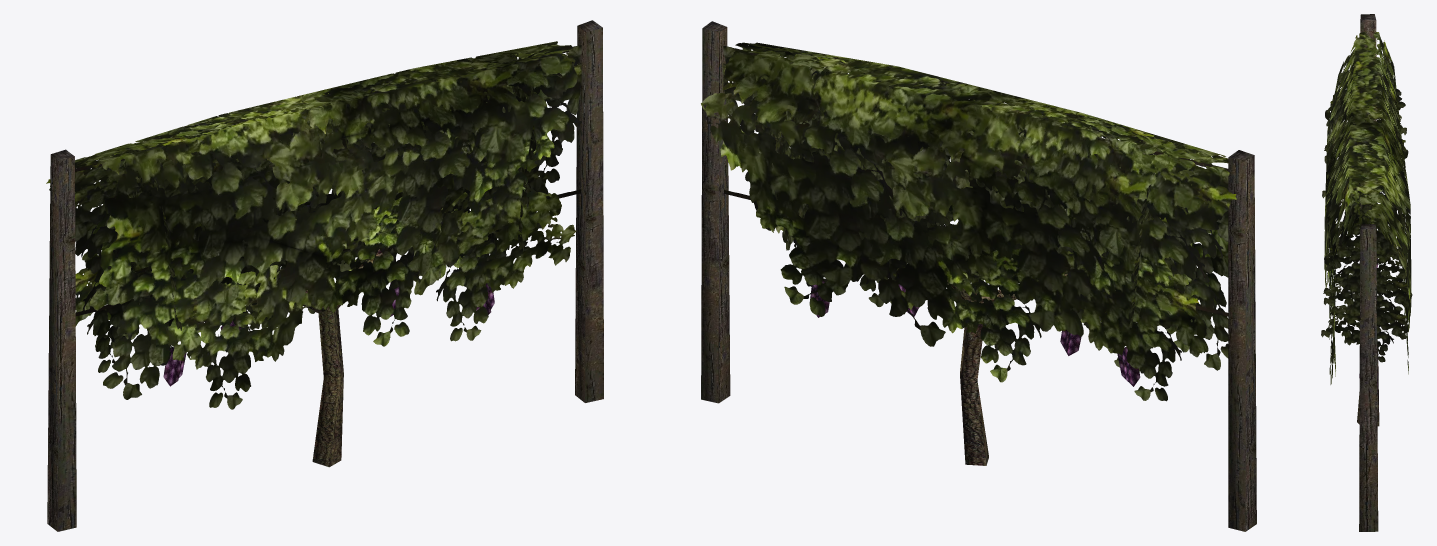
File: KM_VOB_VINEYARD_HALF.glb
3 renders of one model, left to right at view 1: azimuth 30°, elevation 25°; view 2: azimuth 150°, elevation 25°; view 3: azimuth 270°, elevation 25°, orthographic. The views are drawn at different scales.
Parts seen in each view (by area): view 1: Mesh; view 2: Mesh; view 3: Mesh.
Part boxes in pixels (x1,y1,x2,y2): Mesh: (46, 20, 603, 531); Mesh: (701, 21, 1256, 531); Mesh: (1321, 14, 1412, 531).
Bounding box in the file's own units: 3.67 × 2.24 × 0.7355.
Materials: 4 (4 with a texture image).
